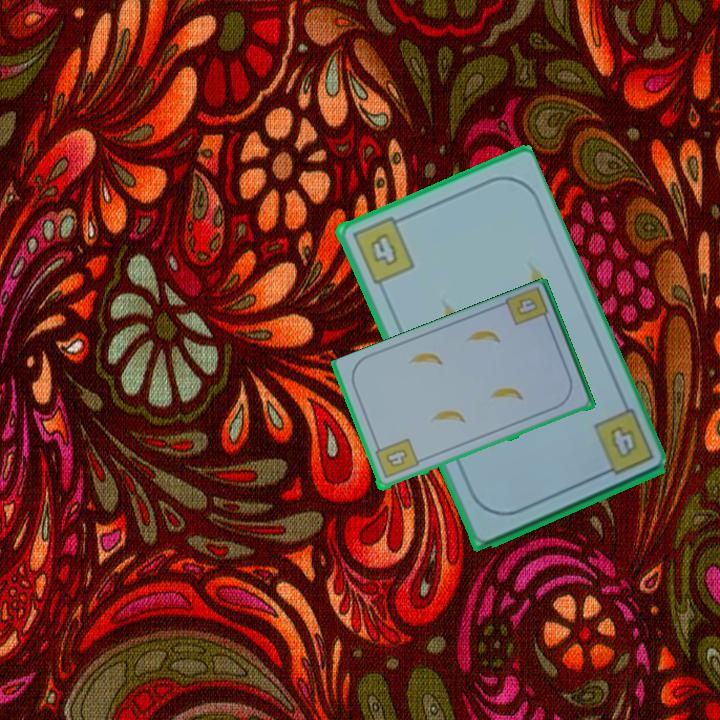4b: (348, 212, 417, 288), (589, 405, 657, 480), (371, 435, 421, 482), (502, 285, 553, 329)
